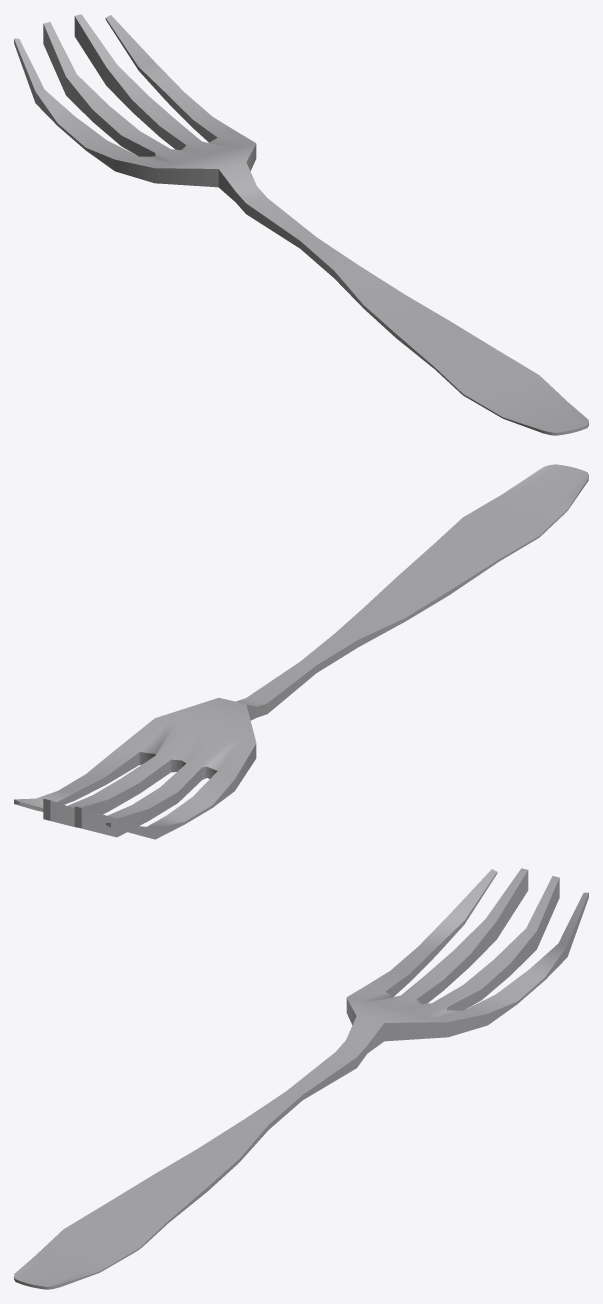
Rendered from Fork.fbx.
3 renders of one model, top to bottom at view 1: azimuth 30°, elevation 25°; view 2: azimuth 150°, elevation 25°; view 3: azimuth 330°, elevation 25°, orthographic.
Parts seen in each view (by area): view 1: Box001; view 2: Box001; view 3: Box001.
Boxes of the visible parts, x1=… form: Box001: x1=14, y1=14, x2=588, y2=435; Box001: x1=14, y1=464, x2=588, y2=839; Box001: x1=14, y1=868, x2=588, y2=1289.
Size of the model in its own units: 15.25 by 6.52 by 106.
